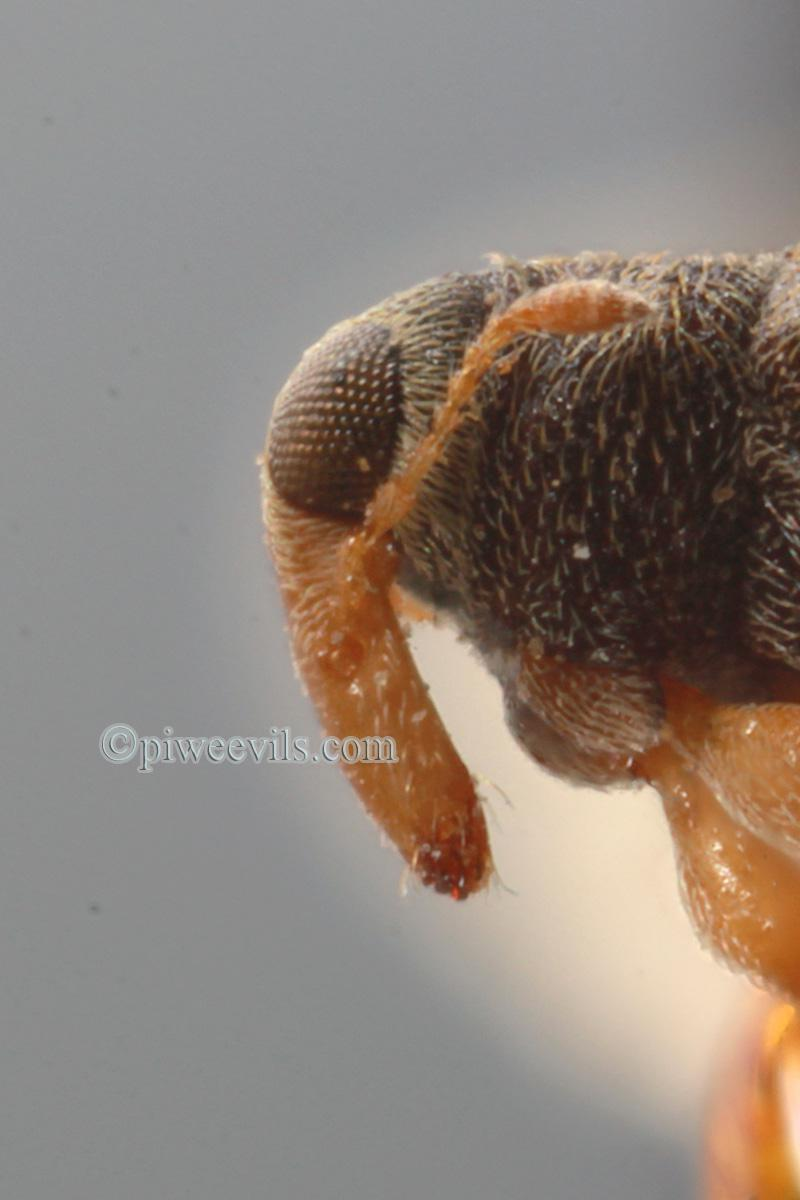Curculionidae: (257, 242, 800, 1014)
